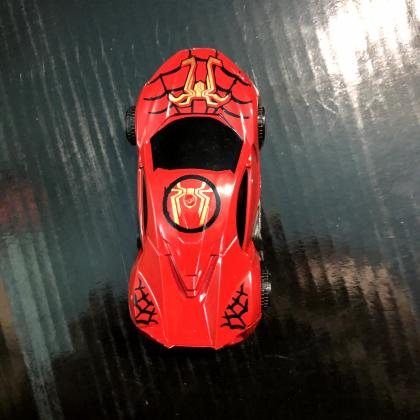Car: (127, 48, 263, 352)
